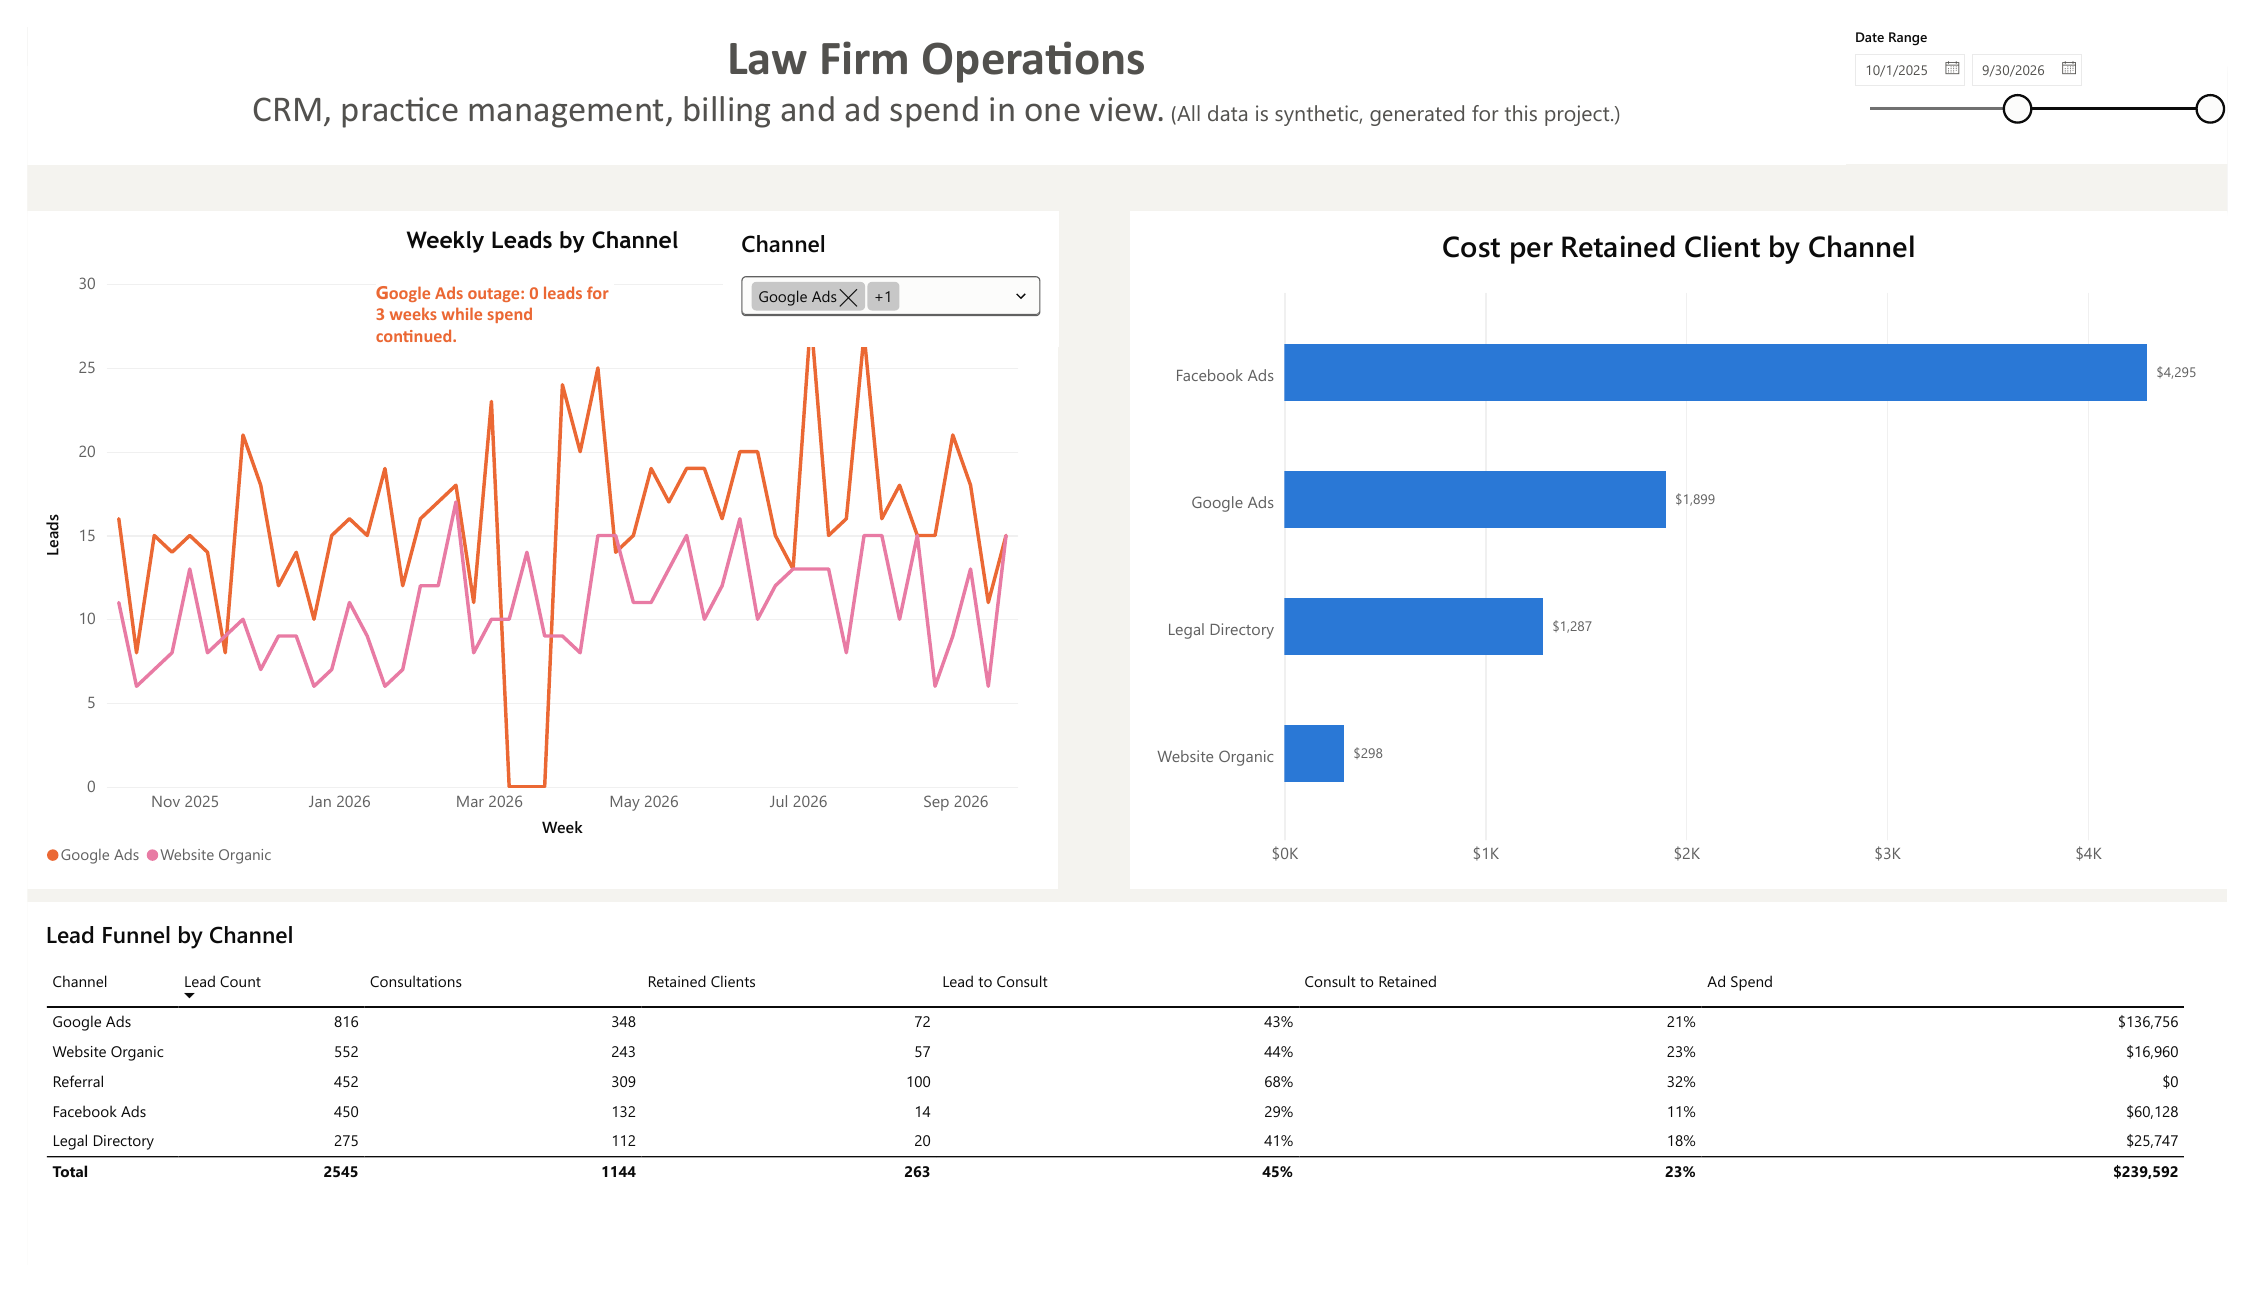

The page's visual inventory and layout, read from the dashboard file:
{"tool":"powerbi","page":{"name":"Intake and Marketing","canvas":[1920,1080],"ordinal":2},"visuals":[{"type":"textbox","box":[0,0,1586.7,120],"z":0},{"type":"slicer","fields":{"Values":["Dates.date"]},"box":[1586.7,0,334.2,119.2],"z":11000},{"type":"lineChart","title":"Weekly Leads by Channel","fields":{"Category":["WeeklyLeadAlerts.week_start"],"Series":["WeeklyLeadAlerts.channel"],"Y":["Sum(WeeklyLeadAlerts.leads)"]},"box":[0,159.9,899.5,591.7],"z":11001},{"type":"listSlicer","title":"Channel","fields":{"Values":["WeeklyLeadAlerts.channel"]},"box":[606.7,160,293.5,119.2],"z":11002},{"type":"textbox","box":[304,220,208,60],"z":11003},{"type":"clusteredBarChart","fields":{"Category":["LeadChannels.channel"],"Y":["_measures.Cost per Retained Client"]},"box":[961.5,159.9,959.1,591.7],"z":11004},{"type":"tableEx","title":"Lead Funnel by Channel","fields":{"Values":["LeadChannels.channel","_measures.Lead Count","_measures.Consultations","_measures.Retained Clients","_measures.Lead to Consult","_measures.Consult to Retained","_measures.Ad Spend"]},"box":[0,763.5,1920.7,317.3],"z":11005}]}

Visuals, with their boxes in screenshot pixels (x1, y1, x2, y2), scaled from the page's 1920x1080 canvas onto the 2255x1293 screenshot:
textbox: region(0, 0, 1864, 144)
slicer - Dates.date: region(1864, 0, 2254, 143)
"Weekly Leads by Channel" lineChart: region(0, 191, 1056, 900)
"Channel" listSlicer: region(713, 192, 1057, 334)
textbox: region(357, 263, 601, 335)
clusteredBarChart - LeadChannels.channel x _measures.Cost per Retained Client: region(1129, 191, 2254, 900)
"Lead Funnel by Channel" tableEx: region(0, 914, 2254, 1292)
